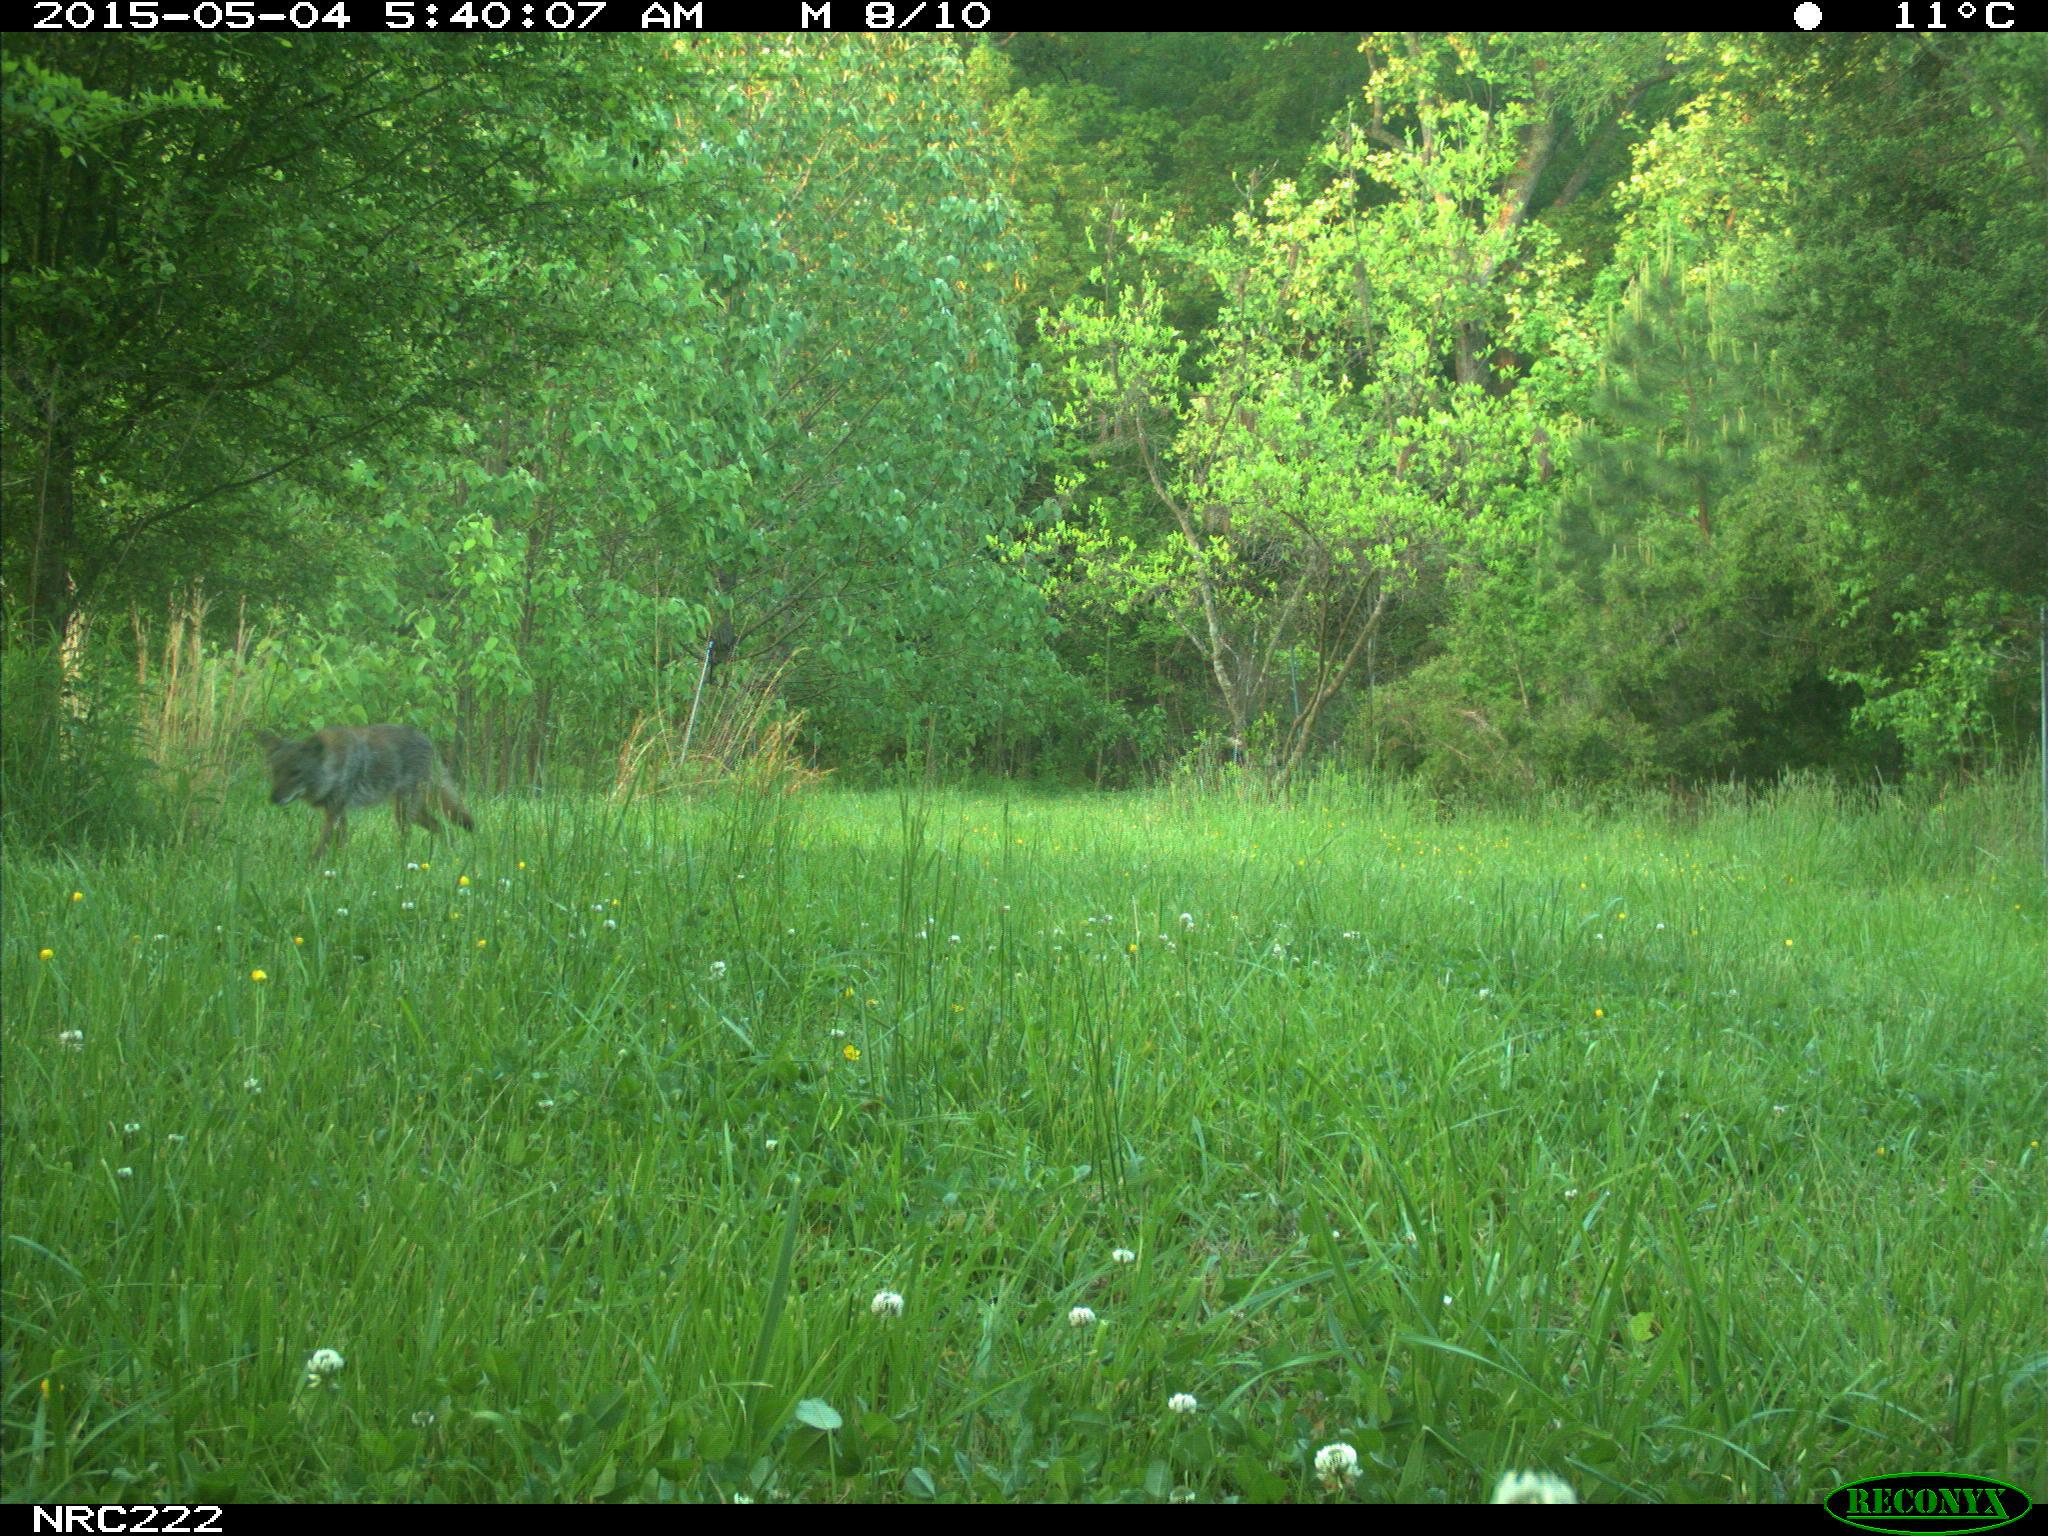Animal: (253, 720, 476, 852)
